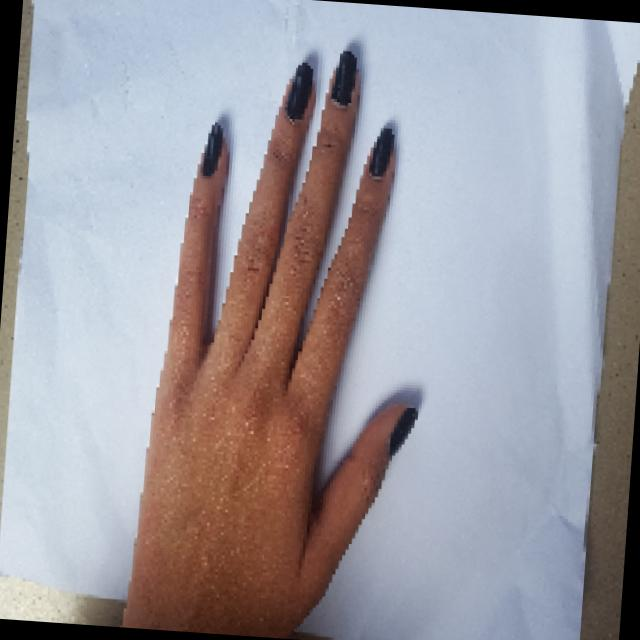Nail: (283, 61, 312, 120), (328, 50, 356, 106), (387, 407, 416, 456), (368, 127, 393, 176), (200, 122, 222, 176)
